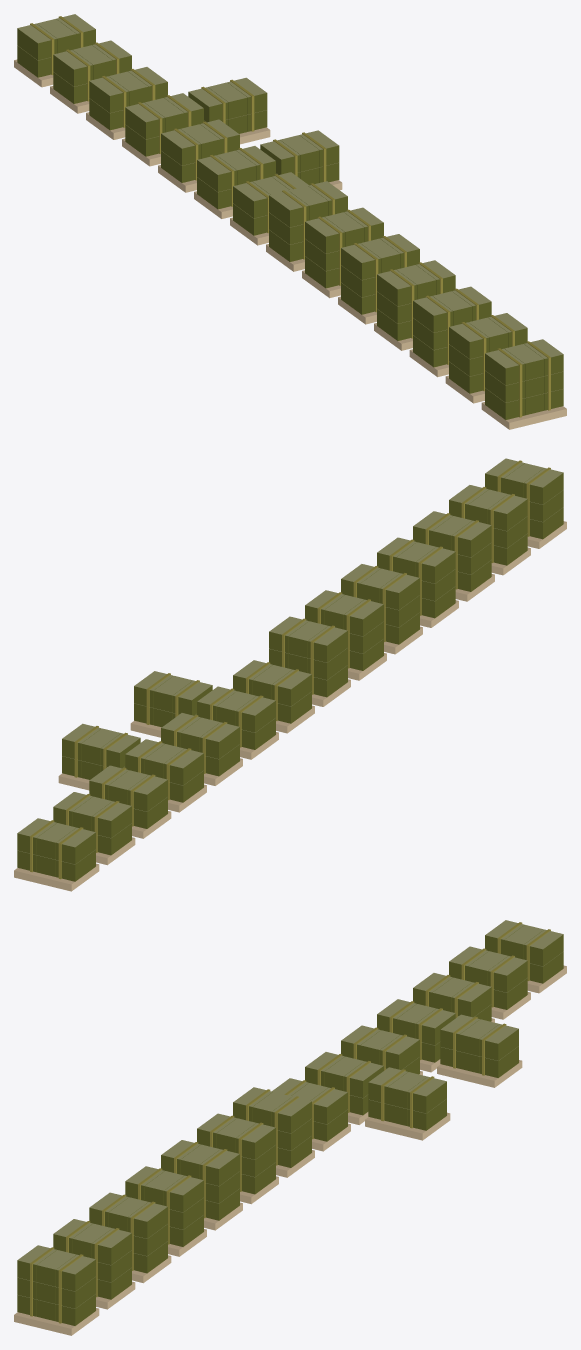
The model's file is SM_CargaMunicion_Mitad_LOD0.fbx.
3 views of the same model, one above another, from view 1: azimuth 30°, elevation 25°; view 2: azimuth 150°, elevation 25°; view 3: azimuth 330°, elevation 25° (orthographic).
Parts seen in each view (by area): view 1: SM_carga_vagon_v1_LOD0; view 2: SM_carga_vagon_v1_LOD0; view 3: SM_carga_vagon_v1_LOD0.
Part boxes in pixels (x1,y1,x2,y2): SM_carga_vagon_v1_LOD0: (14, 14, 566, 429); SM_carga_vagon_v1_LOD0: (14, 458, 566, 891); SM_carga_vagon_v1_LOD0: (14, 920, 566, 1335).
Size of the model in its own units: 2.53 by 1.19 by 17.9.
